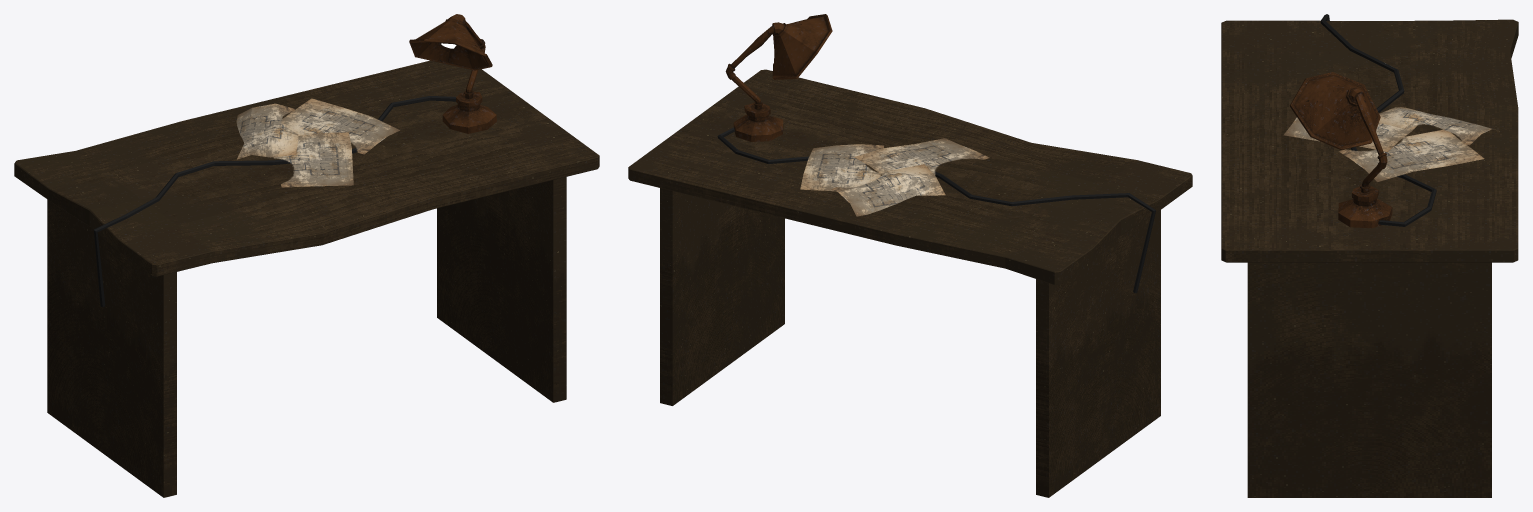
3 views of the same model, side by side, from view 1: azimuth 30°, elevation 25°; view 2: azimuth 150°, elevation 25°; view 3: azimuth 270°, elevation 25° (orthographic). The views are drawn at different scales.
Visible parts, largest first — view 1: Plane, Paper.001, Circle; view 2: Plane, Paper.001, Circle; view 3: Plane, Circle, Paper.001.
Boxes of the visible parts, left/top/right/bottom form: Plane: left=14, top=60, right=599, bottom=497; Paper.001: left=236, top=98, right=399, bottom=187; Circle: left=94, top=14, right=496, bottom=307; Plane: left=628, top=69, right=1192, bottom=497; Paper.001: left=800, top=138, right=989, bottom=216; Circle: left=717, top=14, right=1155, bottom=293; Plane: left=1221, top=19, right=1518, bottom=497; Circle: left=1289, top=14, right=1436, bottom=228; Paper.001: left=1283, top=107, right=1496, bottom=181.
Size of the model in its own units: 11.39 by 8.57 by 6.1.
3 materials, 3 textured.
